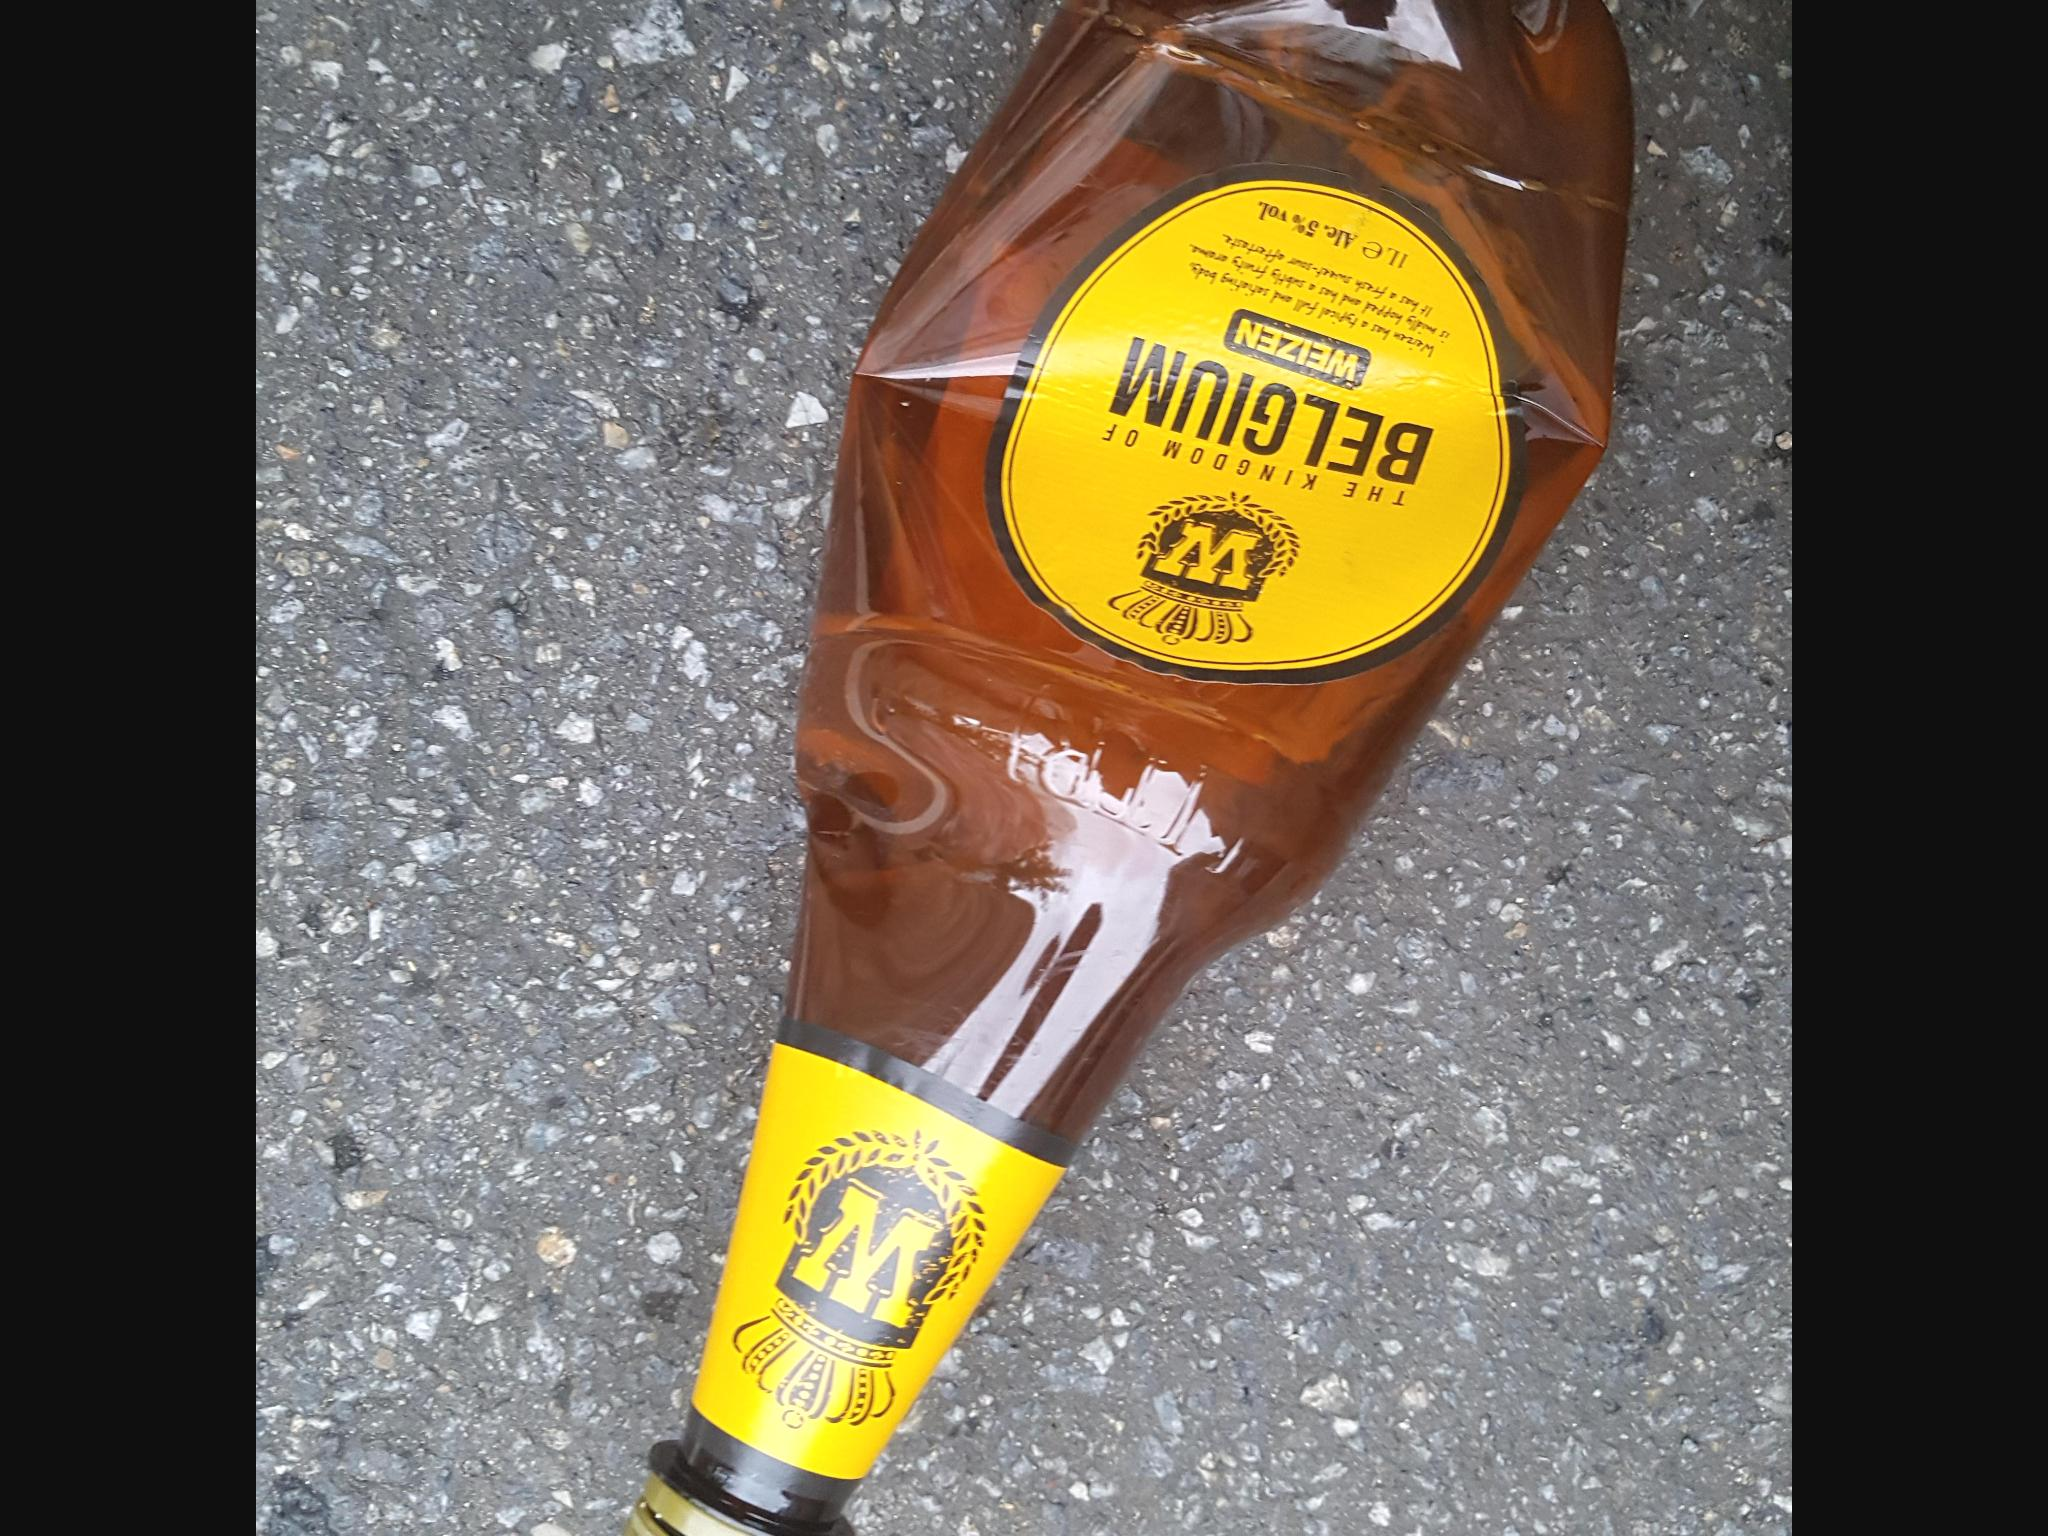bottle: (268, 213, 1427, 862), (755, 891, 1716, 1425)
